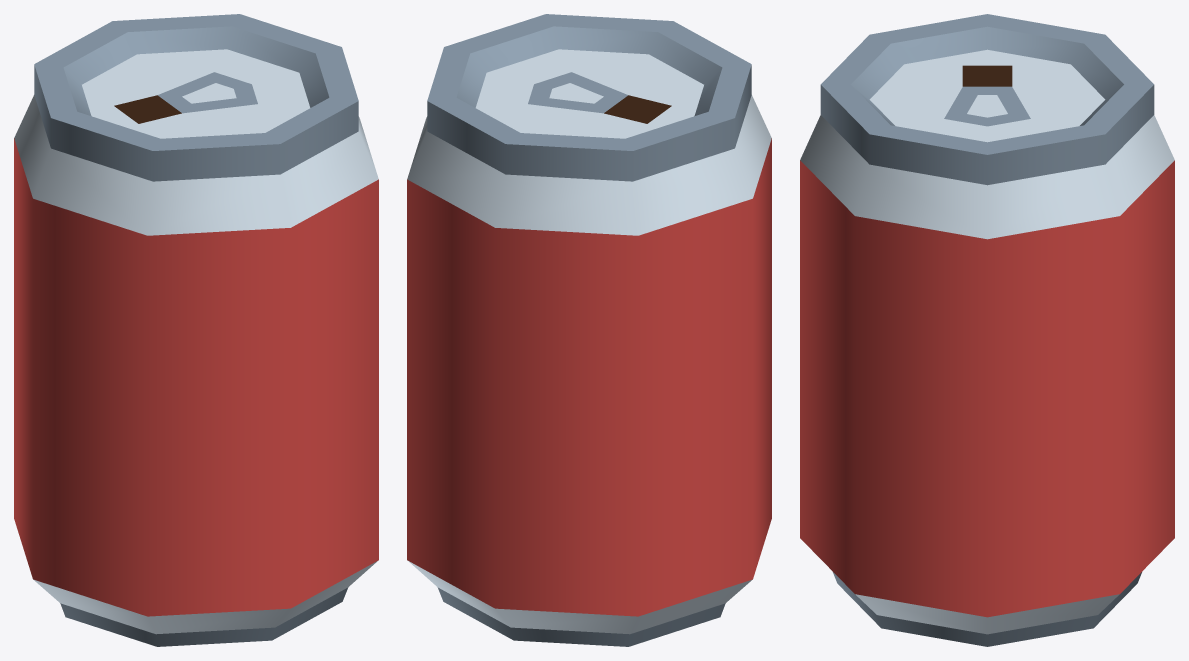
File: Soda Can.glb
3 renders of one model, left to right at view 1: azimuth 30°, elevation 25°; view 2: azimuth 150°, elevation 25°; view 3: azimuth 270°, elevation 25°, orthographic.
Visible parts, largest first — view 1: Soda Can; view 2: Soda Can; view 3: Soda Can.
Boxes of the visible parts, left/top/right/bottom form: Soda Can: left=14, top=14, right=378, bottom=646; Soda Can: left=407, top=14, right=771, bottom=646; Soda Can: left=800, top=14, right=1174, bottom=646.
Bounding box in the file's own units: 0.0988 × 0.1452 × 0.0988.
